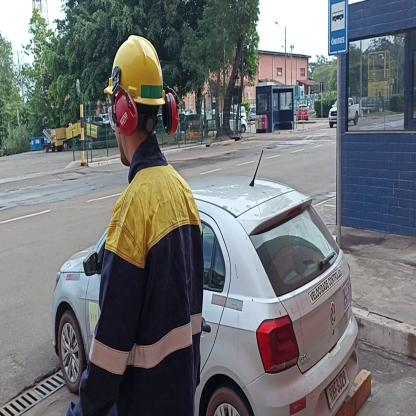C_eletrica: (98, 172, 205, 416)
Capacete: (107, 31, 168, 105)
